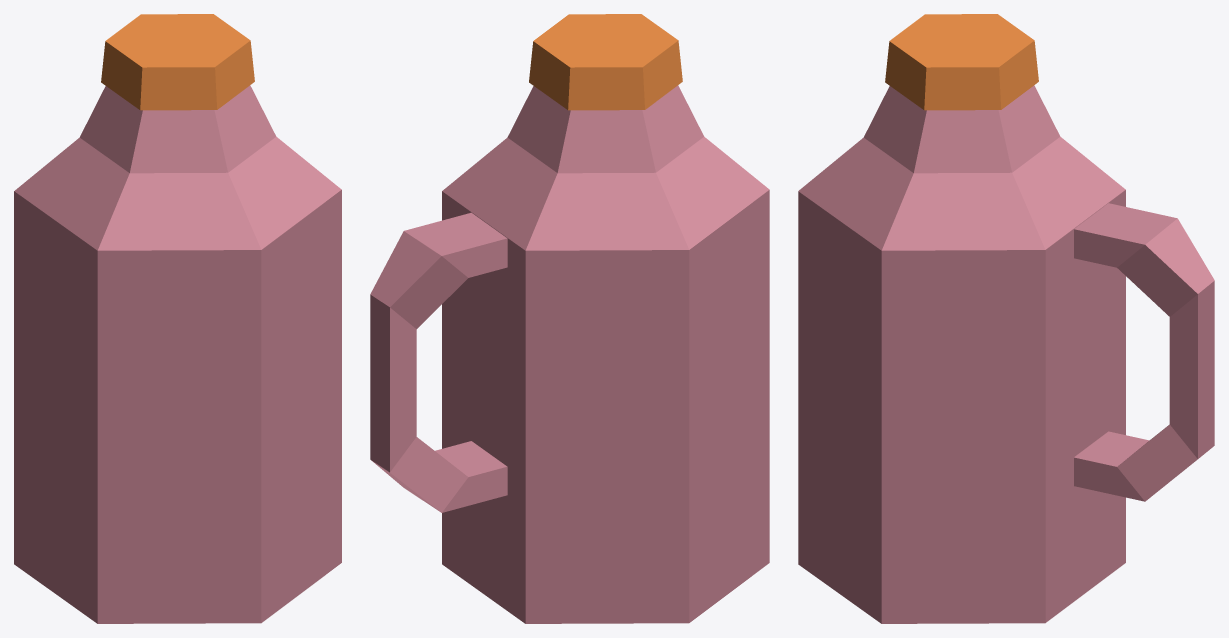
The model's file is Laundry_Bottle_handle.fbx.
The picture shows the model from 3 angles, left to right: view 1: azimuth 30°, elevation 25°; view 2: azimuth 150°, elevation 25°; view 3: azimuth 270°, elevation 25°; orthographic projection.
Visible parts, largest first — view 1: Laundry_Bottle_handle; view 2: Laundry_Bottle_handle; view 3: Laundry_Bottle_handle.
Part boxes in pixels (x1,y1,x2,y2): Laundry_Bottle_handle: (14, 14, 341, 623); Laundry_Bottle_handle: (370, 14, 769, 623); Laundry_Bottle_handle: (798, 14, 1214, 623).
Size of the model in its own units: 19.17 by 38.73 by 27.97.
